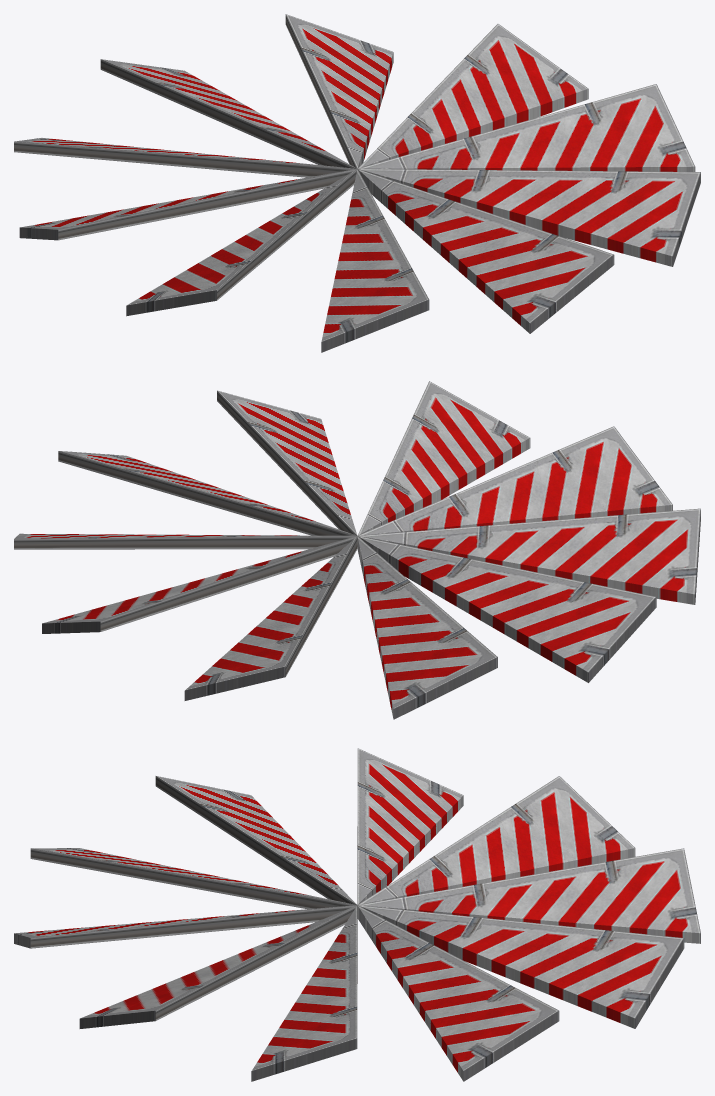
The model's file is vent.fbx.
3 views of the same model, one above another, from view 1: azimuth 30°, elevation 25°; view 2: azimuth 150°, elevation 25°; view 3: azimuth 270°, elevation 25° (orthographic).
Visible parts, largest first — view 1: vent6; view 2: vent6; view 3: vent6.
Part boxes in pixels (x1,y1,x2,y2): vent6: [14, 14, 700, 352]; vent6: [14, 381, 700, 719]; vent6: [14, 748, 700, 1081].
Size of the model in its own units: 76.96 by 6.26 by 76.96.
Materials: 1 (1 with a texture image).
